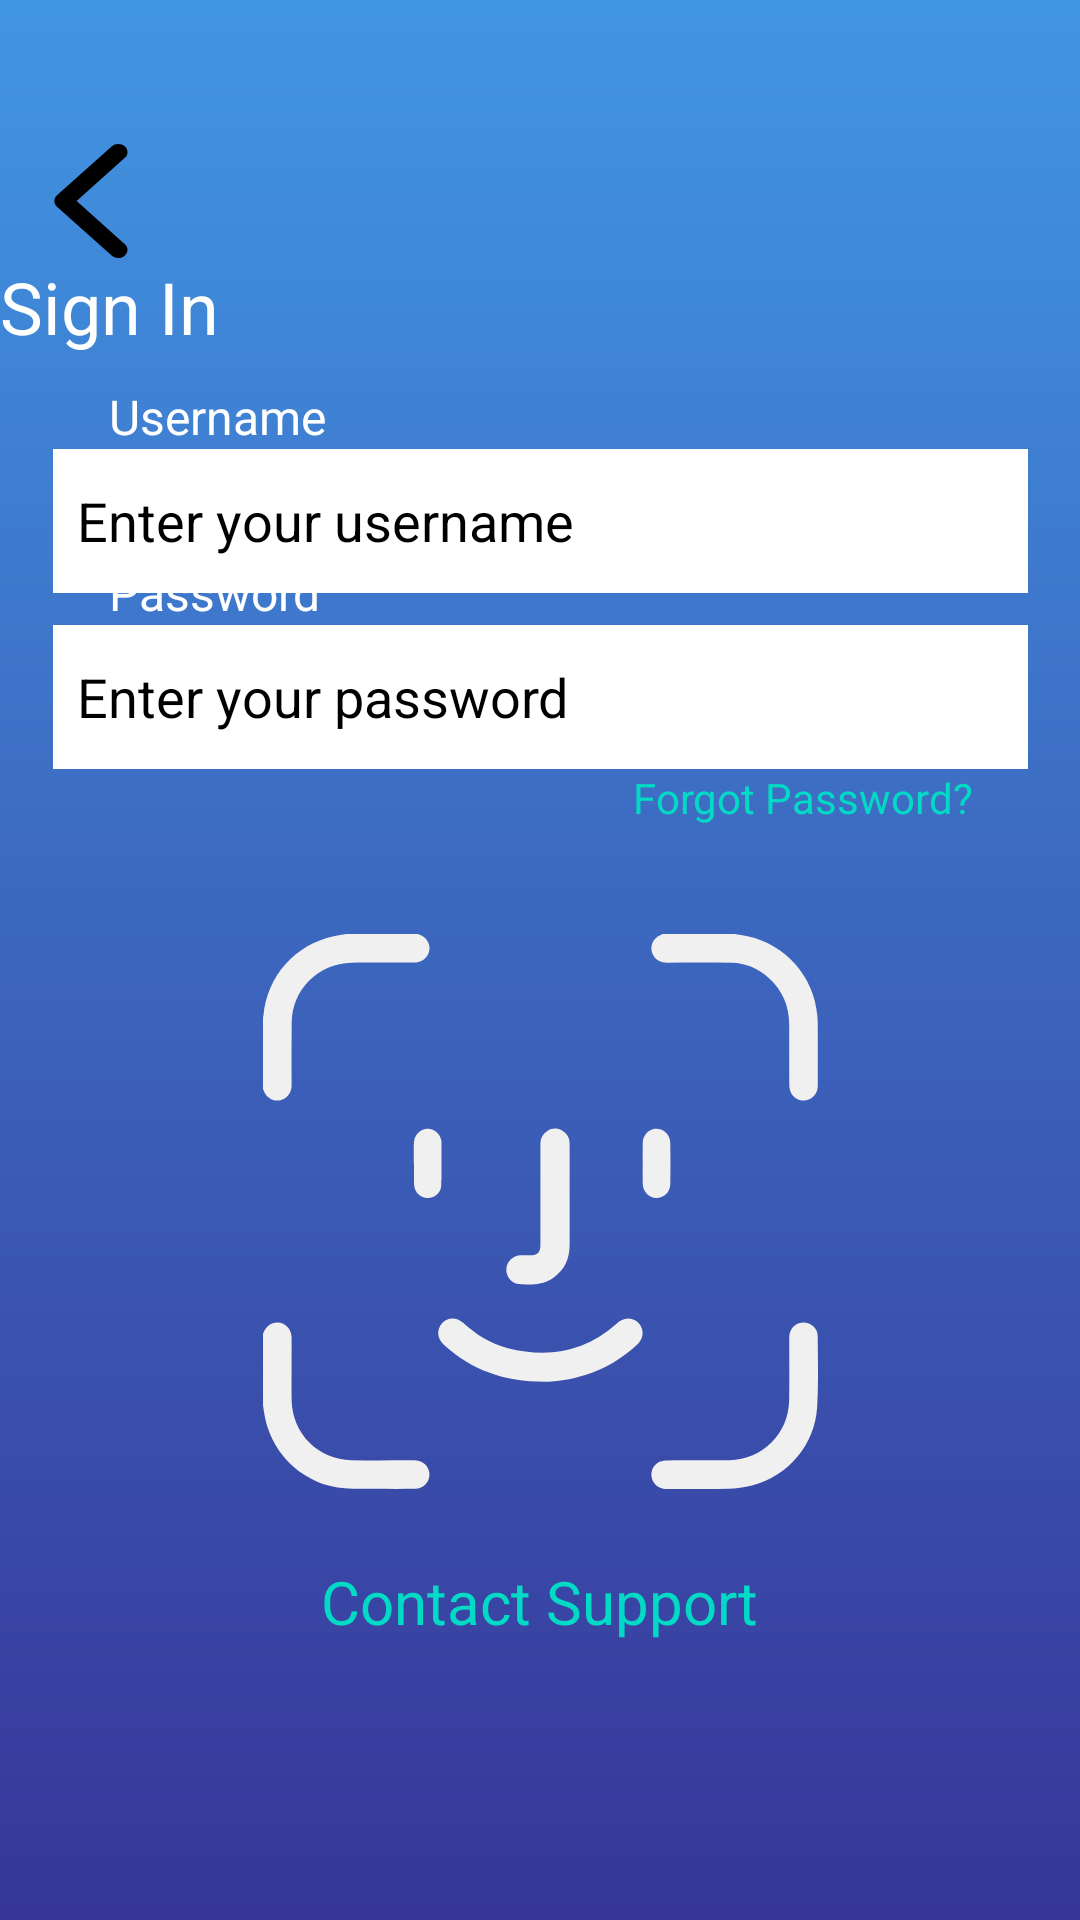

Named icons in this screenshot (1080w x 1920h) and their centers, (x,y):
back: (91,201)
